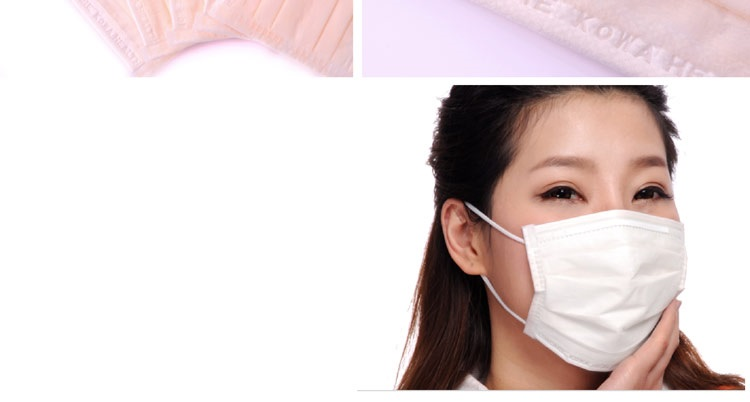face_mask: (490, 103, 685, 370)
